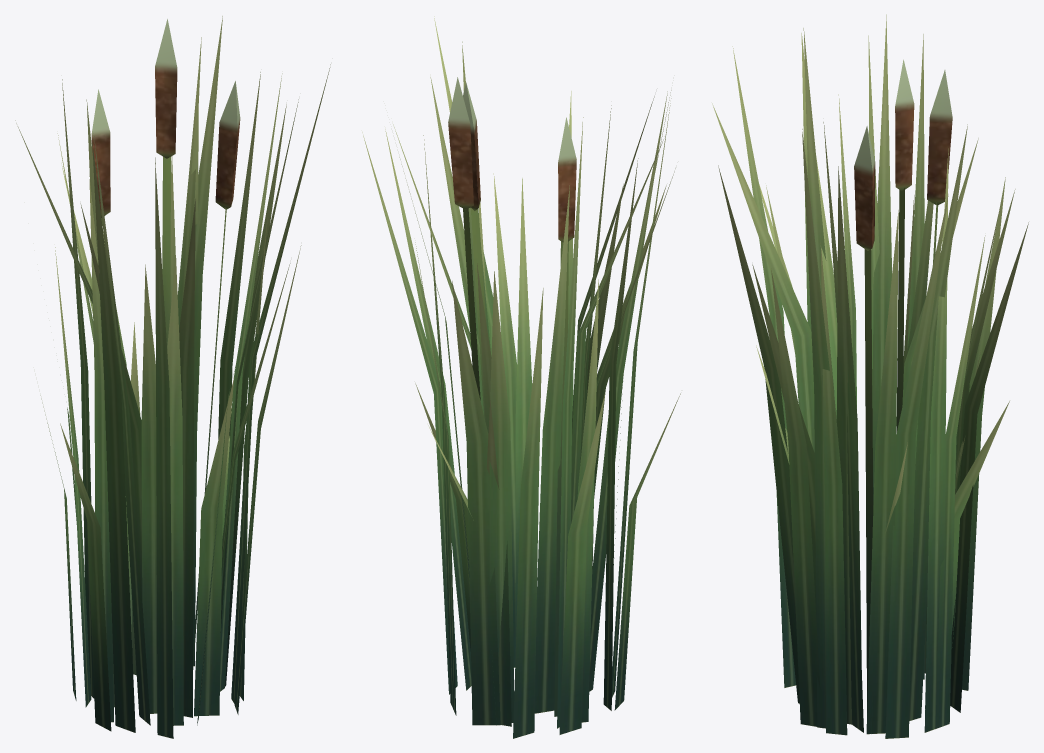
Rendered from reeds-a.glb.
The picture shows the model from 3 angles, left to right: view 1: azimuth 30°, elevation 25°; view 2: azimuth 150°, elevation 25°; view 3: azimuth 270°, elevation 25°; orthographic projection. The views are drawn at different scales.
Visible parts, largest first — view 1: reeds-a; view 2: reeds-a; view 3: reeds-a.
Part boxes in pixels (bbox=[...]): reeds-a: bbox=[15, 16, 330, 738]; reeds-a: bbox=[362, 16, 680, 738]; reeds-a: bbox=[712, 14, 1028, 738].
Bounding box in the file's own units: 1.06 × 2.35 × 1.03.
1 material, 1 textured.
